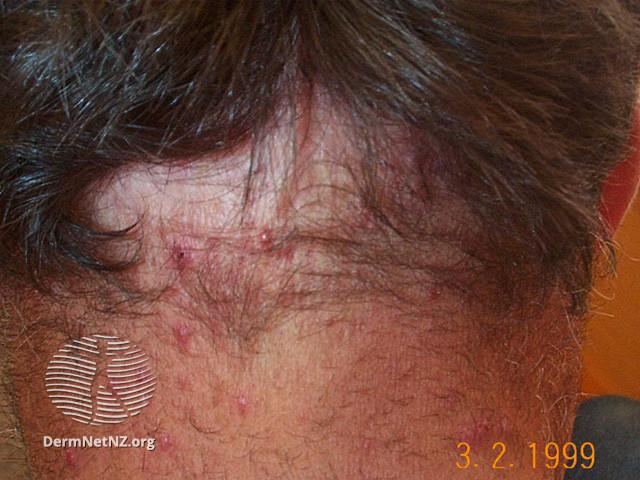Folliculitis: (85, 90, 511, 439)
